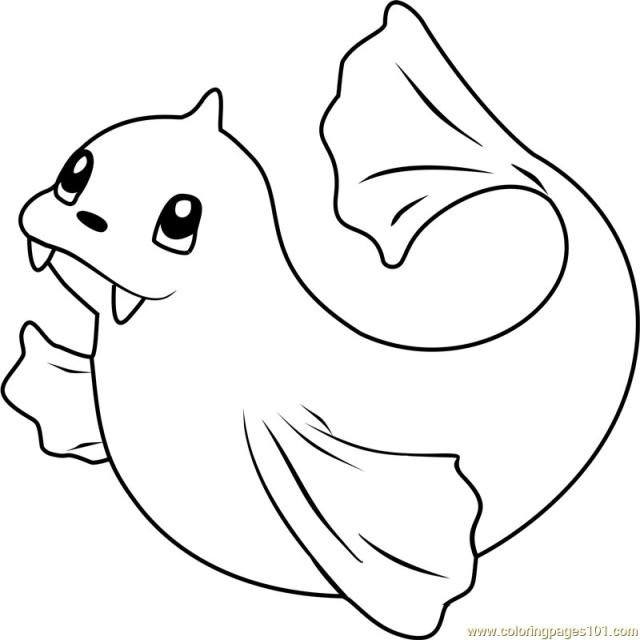Dewgong: (19, 77, 618, 618)
